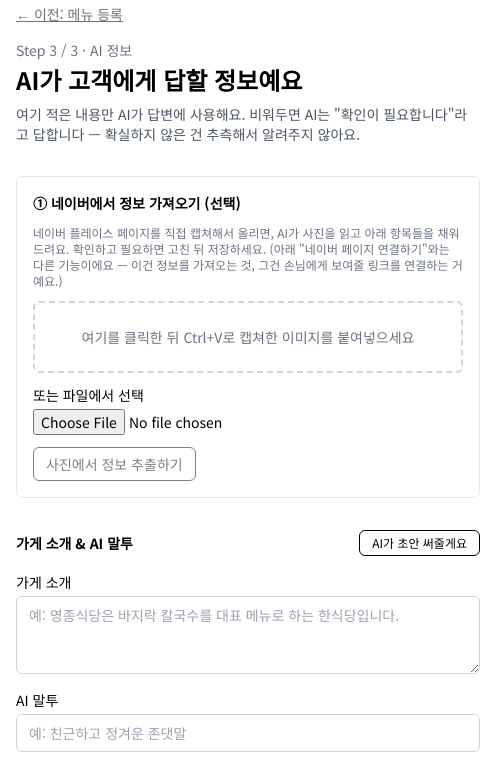
Test: BusinessProfilePage - P0-3 온보딩 완료 체감 순간 › 저장하면 완료 카드가 뜨고, AI 테스트와 Home 공개 링크가 둘 다 보인다
This screenshot has width=497, height=763.
Expected: the text "Step 3 / 3 · AI 정보" is shown, x1=16 y1=40 x2=132 y2=60
Step 1. Type "설명" into the text box labelled "가게 소개" → [248, 635], box x1=16 y1=596 x2=480 y2=674
(page scrolled)
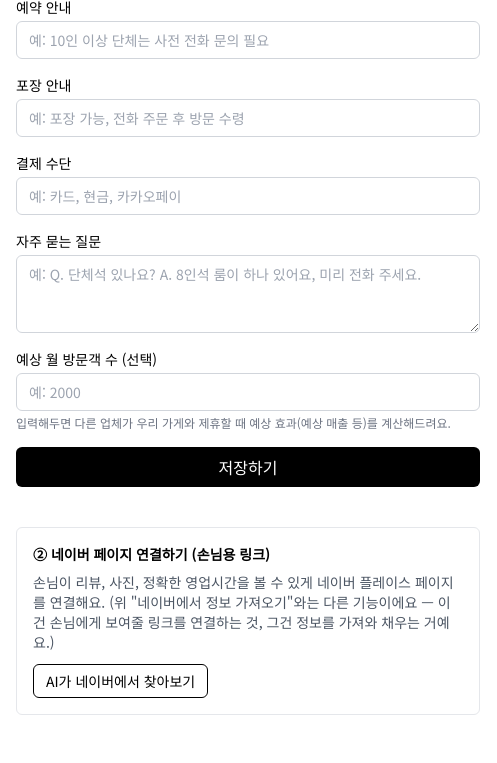
Step 2. Click the button "저장하기" → [248, 467], box x1=16 y1=447 x2=480 y2=487
(page scrolled)
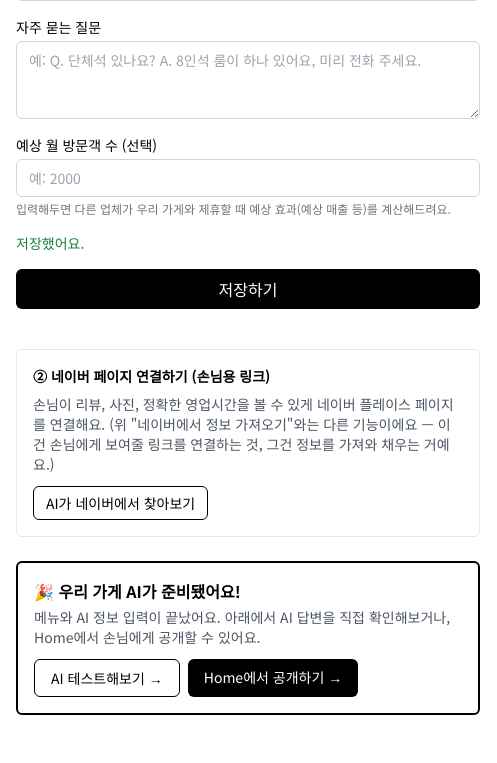
Expected: the text "🎉 우리 가게 AI가 준비됐어요!" is shown, x1=34 y1=579 x2=241 y2=603
